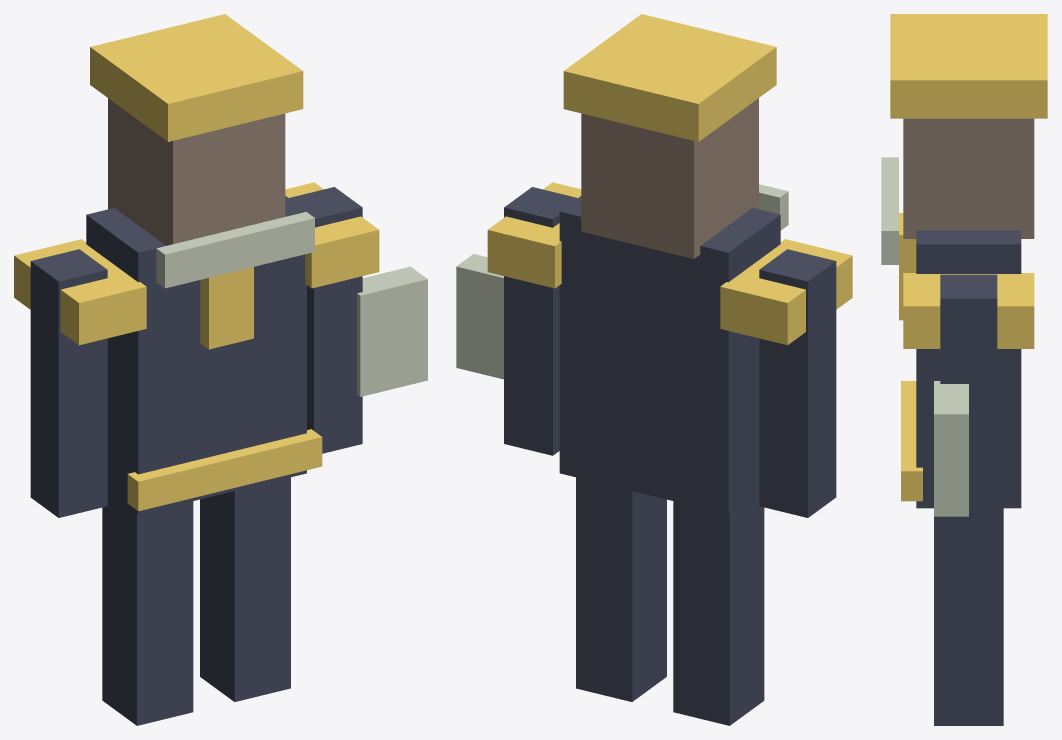
Rendered from 14_selka_frostrelay_pilgrim_at_life.glb.
3 renders of one model, left to right at view 1: azimuth 30°, elevation 25°; view 2: azimuth 150°, elevation 25°; view 3: azimuth 270°, elevation 25°, orthographic.
Visible parts, largest first — view 1: Selka Frostrelay, Pilgrim at Life; view 2: Selka Frostrelay, Pilgrim at Life; view 3: Selka Frostrelay, Pilgrim at Life.
Part boxes in pixels (bbox=[...]): Selka Frostrelay, Pilgrim at Life: bbox=[14, 14, 427, 725]; Selka Frostrelay, Pilgrim at Life: bbox=[456, 14, 852, 725]; Selka Frostrelay, Pilgrim at Life: bbox=[881, 14, 1047, 725].
Size of the model in its own units: 1.02 by 1.69 by 0.3976.
